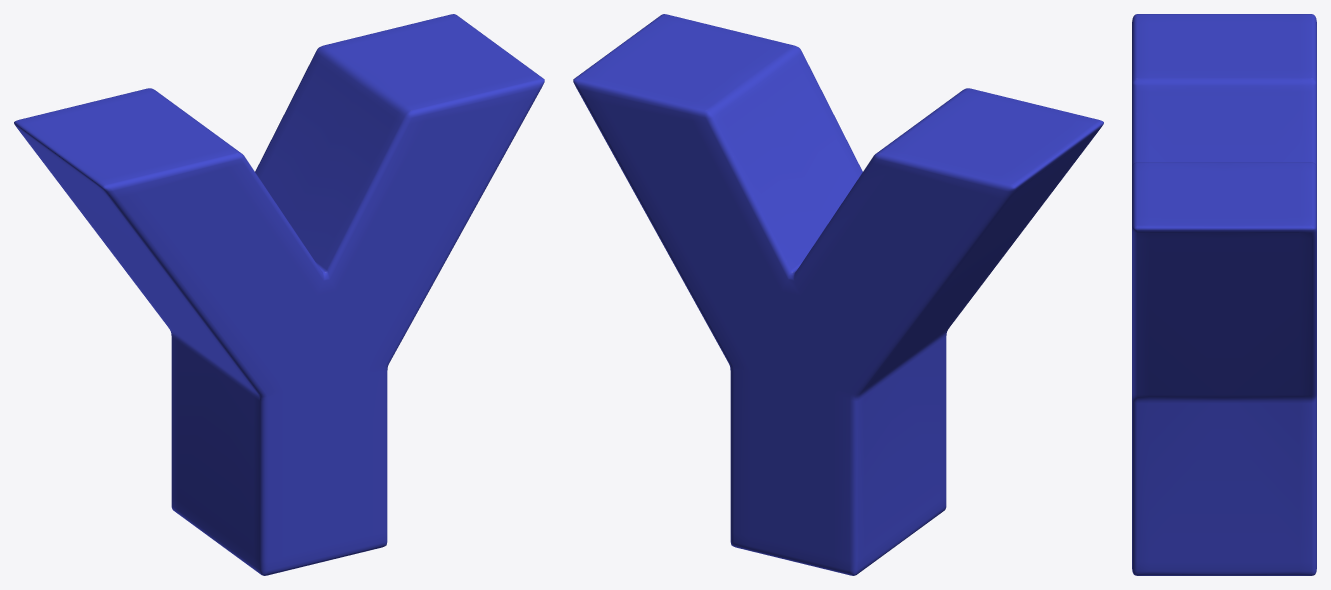
File: modelY.glb
The picture shows the model from 3 angles, left to right: view 1: azimuth 30°, elevation 25°; view 2: azimuth 150°, elevation 25°; view 3: azimuth 270°, elevation 25°; orthographic projection.
Parts seen in each view (by area): view 1: node_id158_0; view 2: node_id158_0; view 3: node_id158_0.
Part boxes in pixels (x1,y1,x2,y2): node_id158_0: [14, 14, 544, 575]; node_id158_0: [573, 14, 1103, 575]; node_id158_0: [1132, 14, 1316, 575].
Size of the model in its own units: 0.512 by 0.4757 by 0.1867.
Materials: 1 (1 with a texture image).
